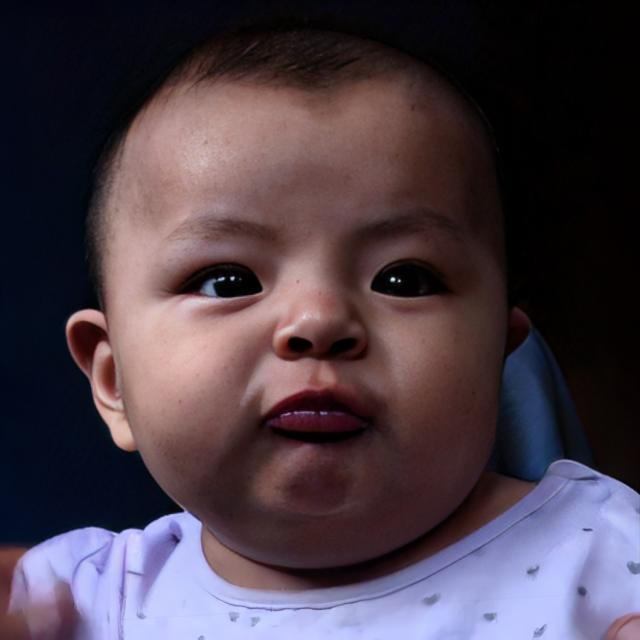fear: (94, 31, 518, 566)
